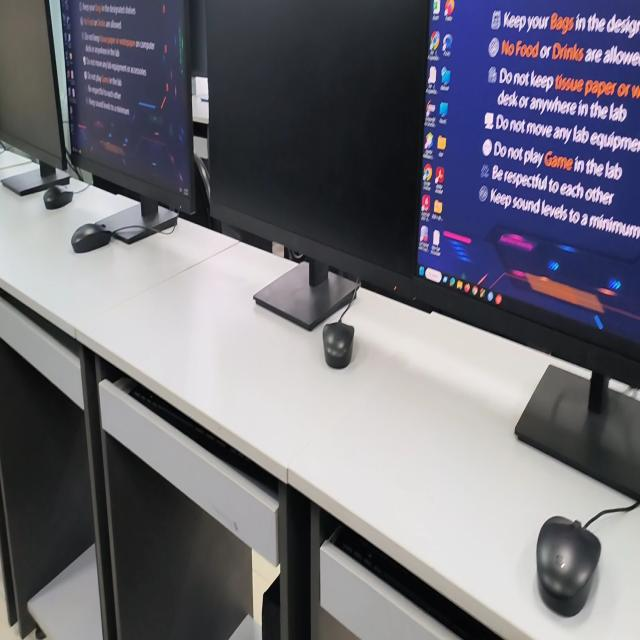Monitor: (413, 0, 640, 385), (205, 0, 429, 297), (61, 0, 195, 210), (0, 0, 61, 166)
Mouse: (418, 0, 640, 344), (536, 516, 601, 617), (323, 318, 354, 369), (71, 223, 112, 253), (43, 186, 73, 209)
